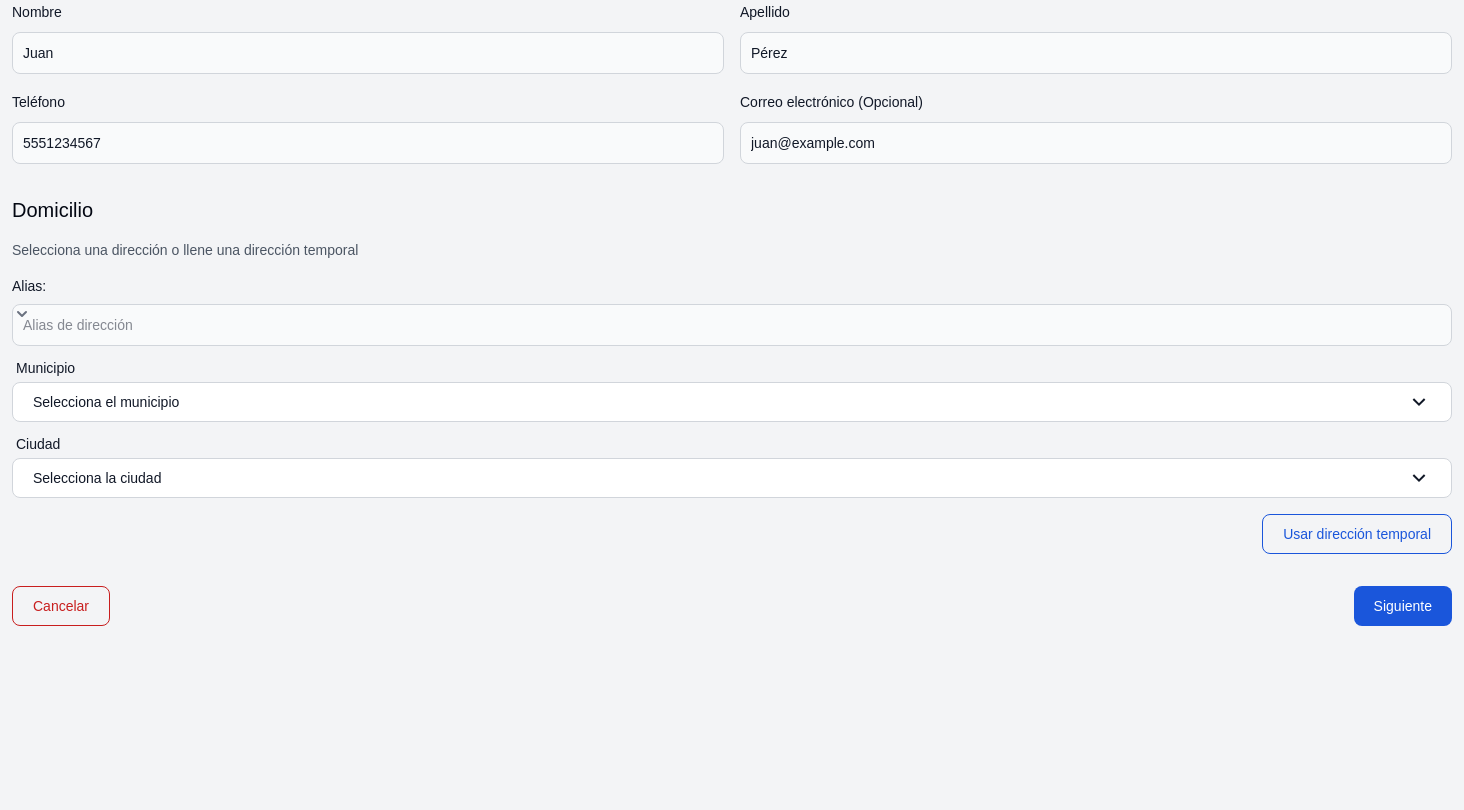
Feature: Add Address for Tone Guide Creation › Scenario: Submit form without selecting an alias › Given no alias is selected, When user submits the form, Then it should display an error message
Click the button "Siguiente".
click(1403, 606)  # box [1354,586,1452,626]
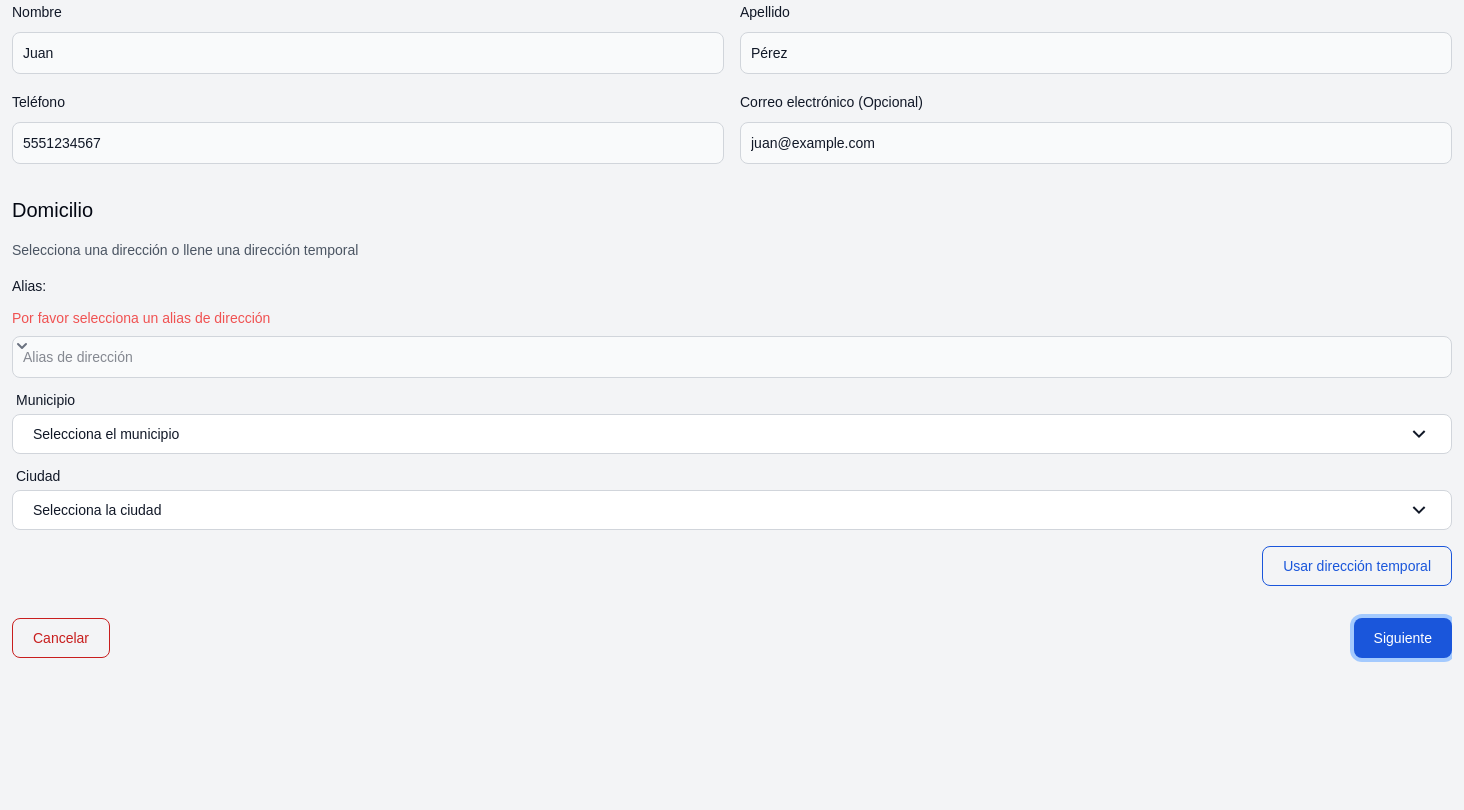
Check: the text "Por favor selecciona un alias de dirección" is shown, box [12,310,270,326]
